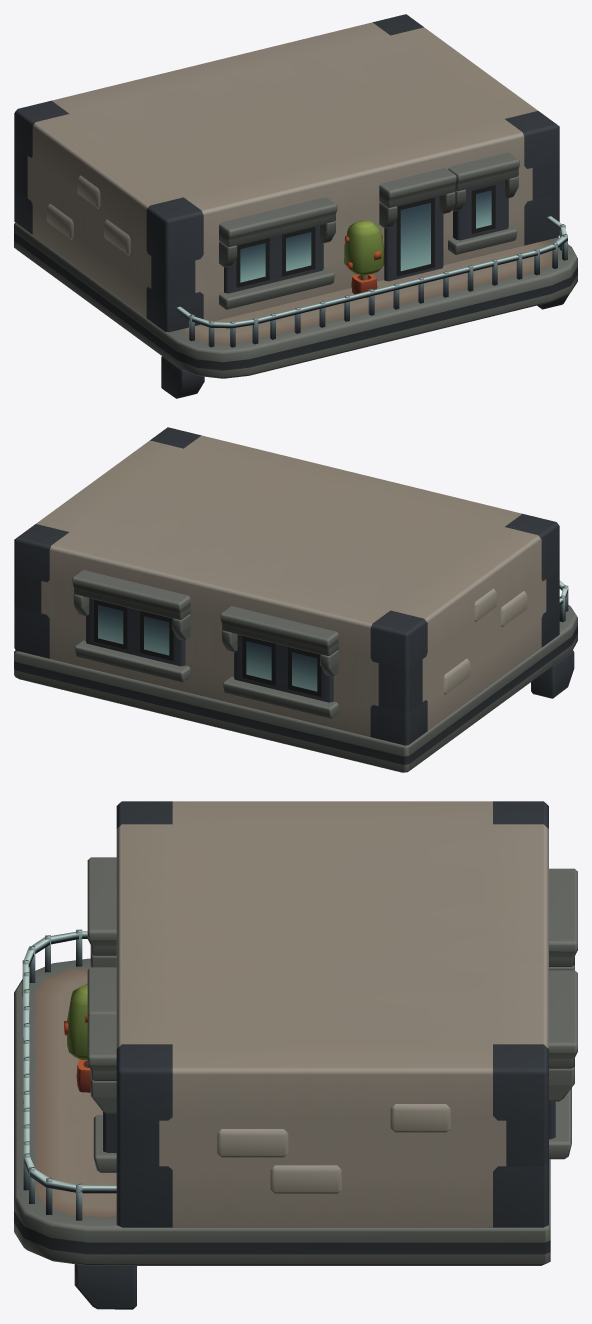
The model's file is appartment_type1_x6_balcony_cream.fbx.
3 renders of one model, top to bottom at view 1: azimuth 30°, elevation 25°; view 2: azimuth 150°, elevation 25°; view 3: azimuth 270°, elevation 25°, orthographic. The views are drawn at different scales.
Parts seen in each view (by area): view 1: appartment_type1_x6_balcony_cream; view 2: appartment_type1_x6_balcony_cream; view 3: appartment_type1_x6_balcony_cream.
Part boxes in pixels (left/top/right/bottom): appartment_type1_x6_balcony_cream: left=14, top=14, right=577, bottom=398; appartment_type1_x6_balcony_cream: left=14, top=427, right=577, bottom=772; appartment_type1_x6_balcony_cream: left=14, top=801, right=577, bottom=1309.
Bounding box in the file's own units: 1219 × 505 × 1056.
